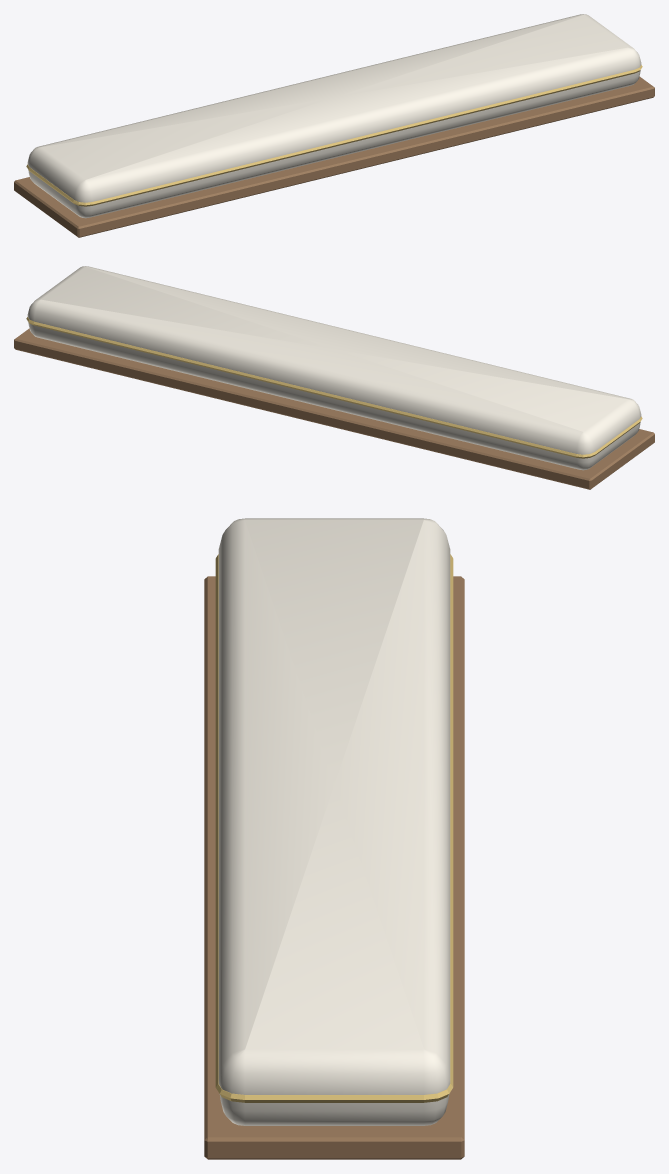
The model's file is wedding-and-chapel-kit-pew-kneeler-5cafdfb7__39379.glb.
3 views of the same model, one above another, from view 1: azimuth 30°, elevation 25°; view 2: azimuth 150°, elevation 25°; view 3: azimuth 270°, elevation 25° (orthographic). The views are drawn at different scales.
Parts seen in each view (by area): view 1: pew-kneeler; view 2: pew-kneeler; view 3: pew-kneeler.
Part boxes in pixels (x1,y1,x2,y2): pew-kneeler: [14, 14, 654, 237]; pew-kneeler: [14, 266, 654, 489]; pew-kneeler: [204, 518, 464, 1159].
Size of the model in its own units: 1.64 by 0.128 by 0.3199.
